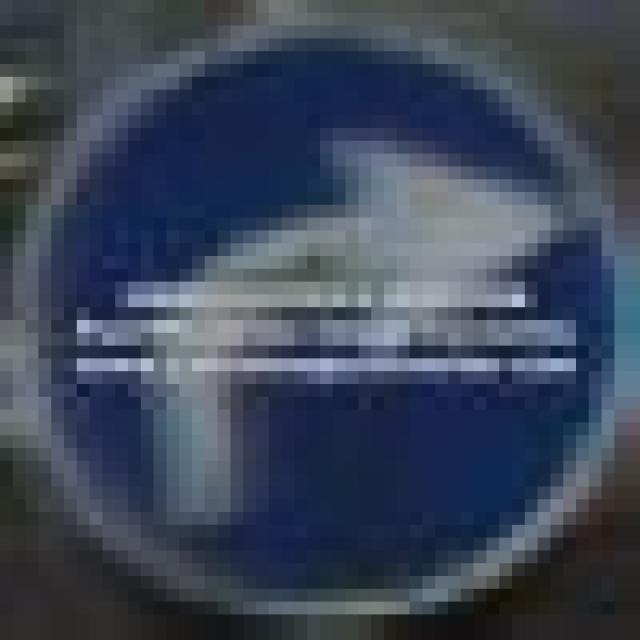TURN_RIGHT: (12, 26, 602, 588)
